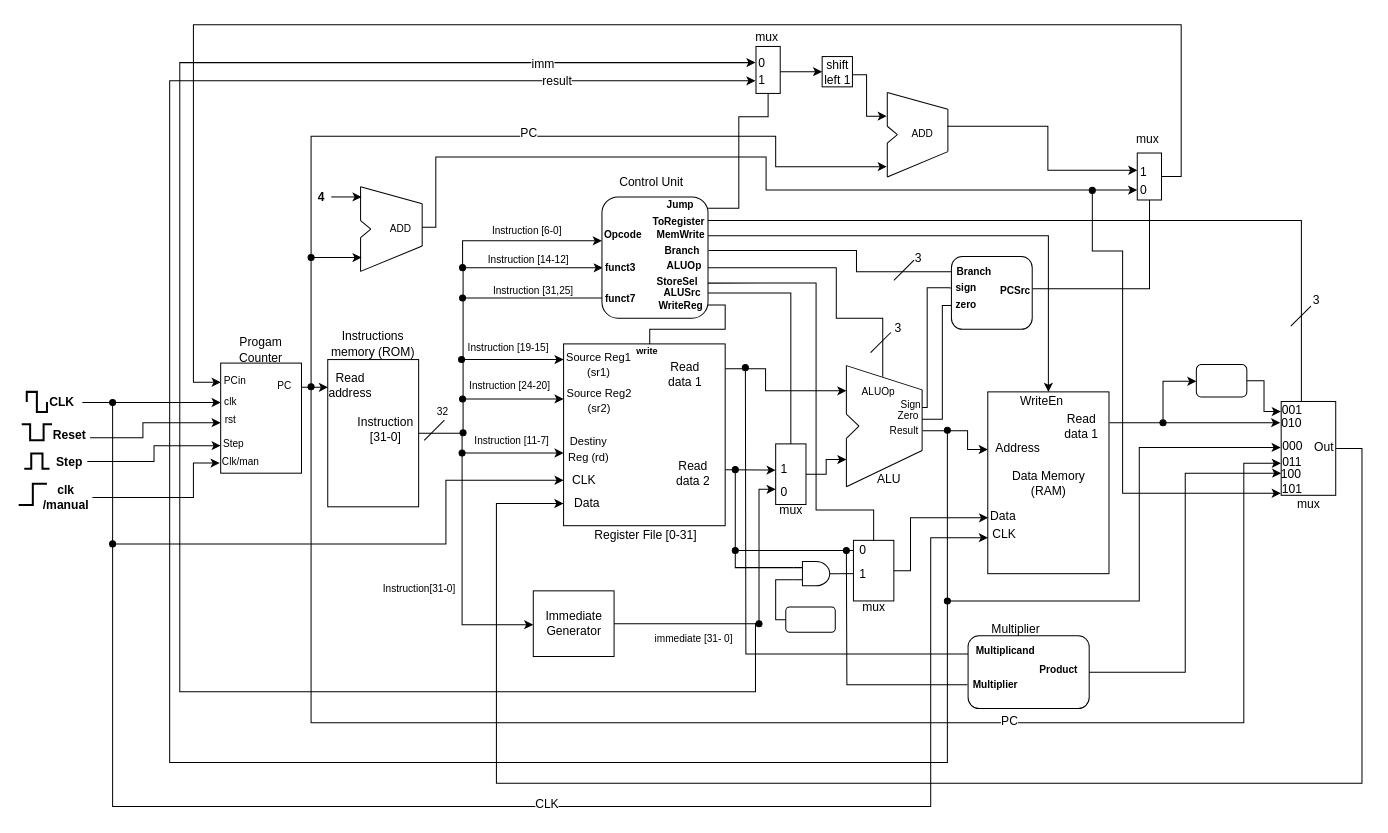
Image size: 1388x833. Some labels were removed from this diagram. Each missing label, with the centre of its shape:
"byte mask" belongs at (810,619).
"LB sign extend" belongs at (1221,380).
